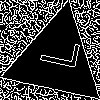L: (31, 34, 80, 71)
